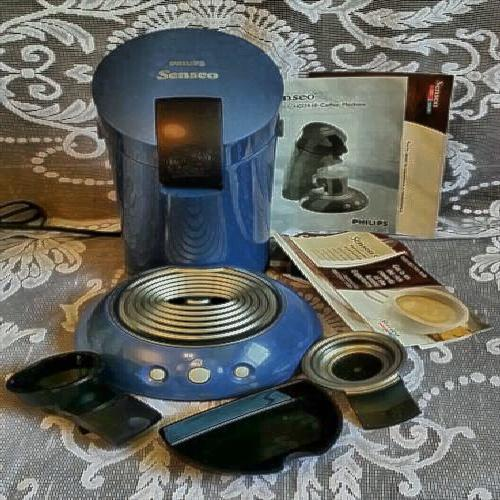coffee_maker: (101, 28, 292, 324)
